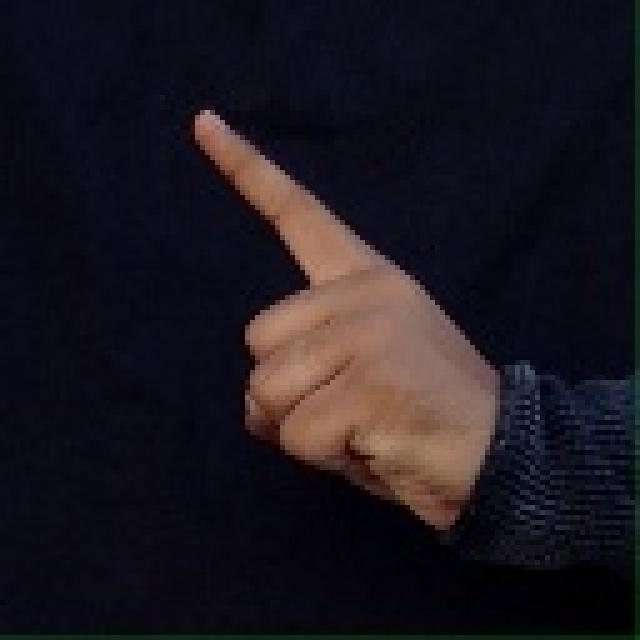Alphabet-I: (191, 68, 514, 542)
